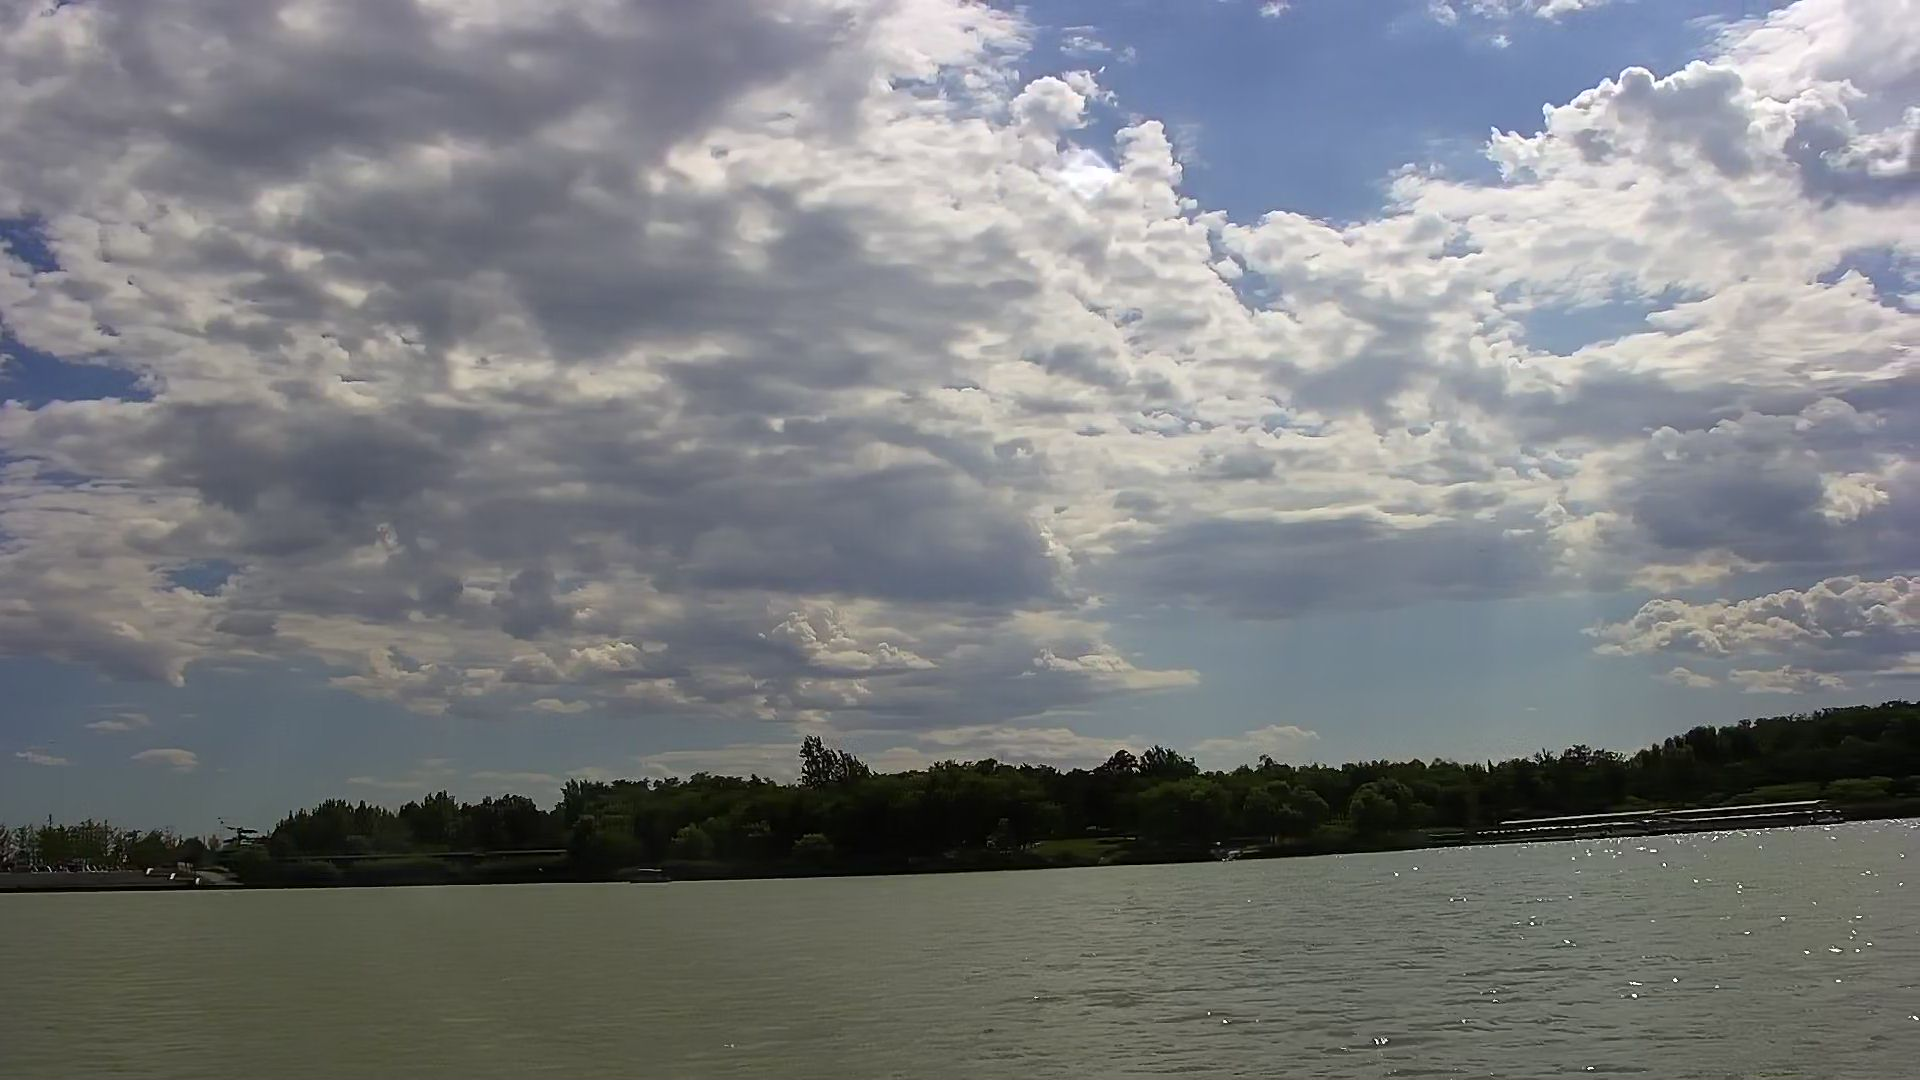harbor: (1455, 796, 1851, 847)
